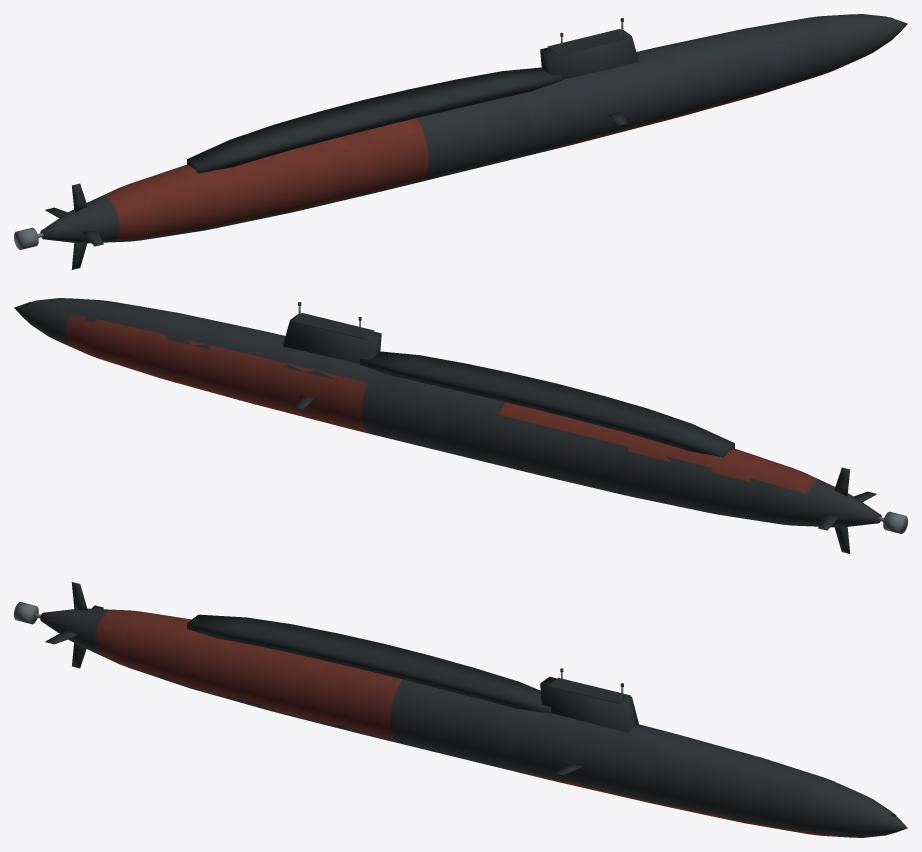
The model's file is US_SSBN_Ohio_LOD1.fbx.
3 views of the same model, one above another, from view 1: azimuth 30°, elevation 25°; view 2: azimuth 150°, elevation 25°; view 3: azimuth 330°, elevation 25° (orthographic).
Parts seen in each view (by area): view 1: US_SSBN_Ohio_LOD1; view 2: US_SSBN_Ohio_LOD1; view 3: US_SSBN_Ohio_LOD1.
Part boxes in pixels (box(x1,y1,x2,y2)): US_SSBN_Ohio_LOD1: box(14, 14, 907, 269); US_SSBN_Ohio_LOD1: box(14, 298, 907, 553); US_SSBN_Ohio_LOD1: box(14, 582, 907, 837).
Size of the model in its own units: 175 by 21.95 by 21.93.
6 materials, 1 textured.
